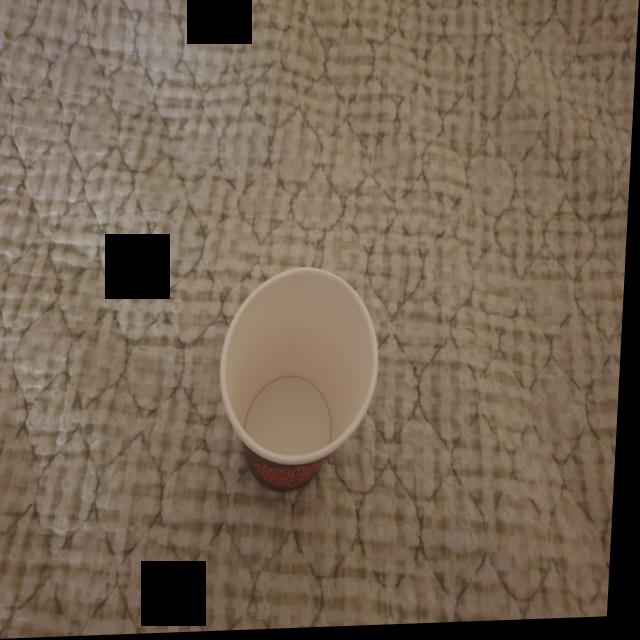cups: (215, 259, 391, 505)
